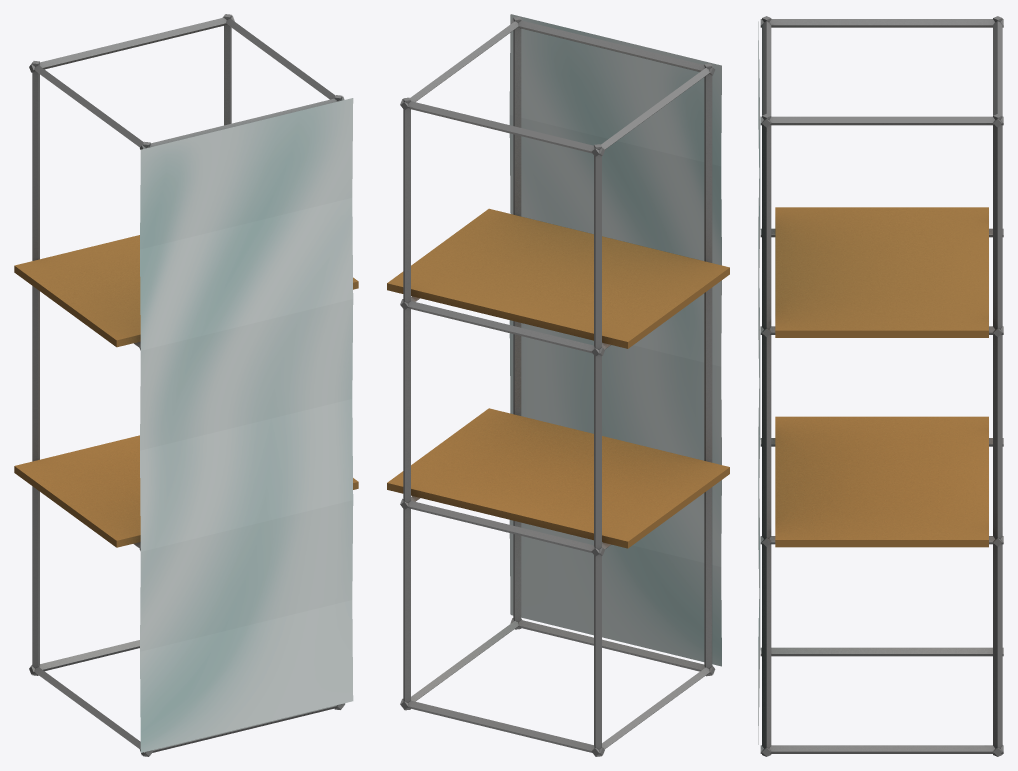
Rendered from scaffolding.fbx.
The picture shows the model from 3 angles, left to right: view 1: azimuth 30°, elevation 25°; view 2: azimuth 150°, elevation 25°; view 3: azimuth 270°, elevation 25°; orthographic projection. The views are drawn at different scales.
Visible parts, largest first — view 1: Cube.005; view 2: Cube.005; view 3: Cube.005.
Boxes of the visible parts, bbox=[...] form: Cube.005: bbox=[14, 14, 358, 756]; Cube.005: bbox=[387, 14, 729, 756]; Cube.005: bbox=[758, 16, 1003, 756].
Bounding box in the file's own units: 1262 × 3050 × 1061.
